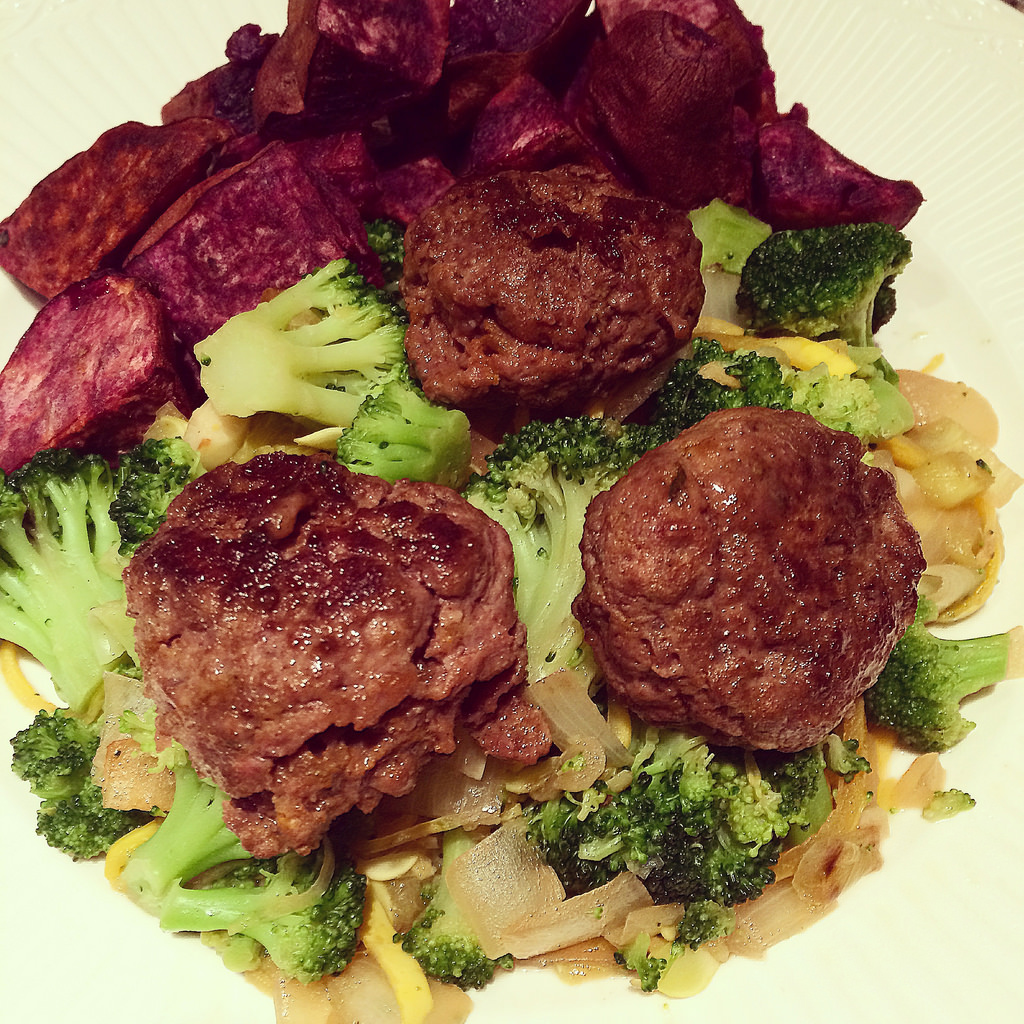meatballs: (128, 446, 531, 816), (567, 403, 921, 758), (396, 177, 705, 430)
